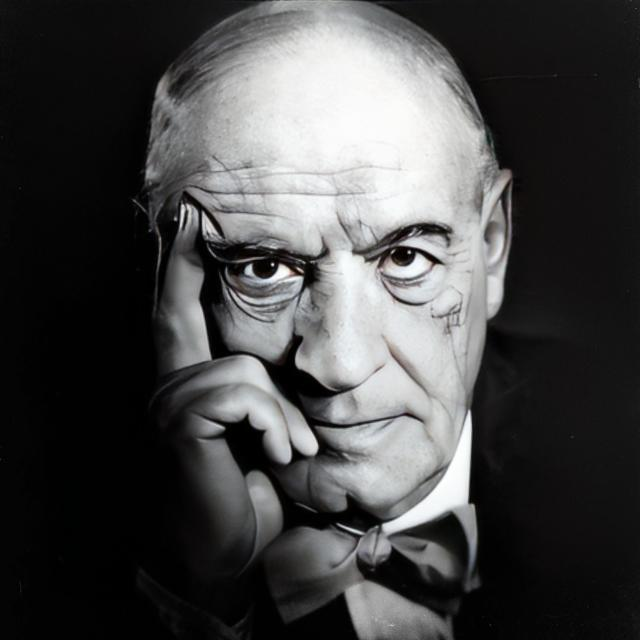anger: (185, 109, 480, 510)
